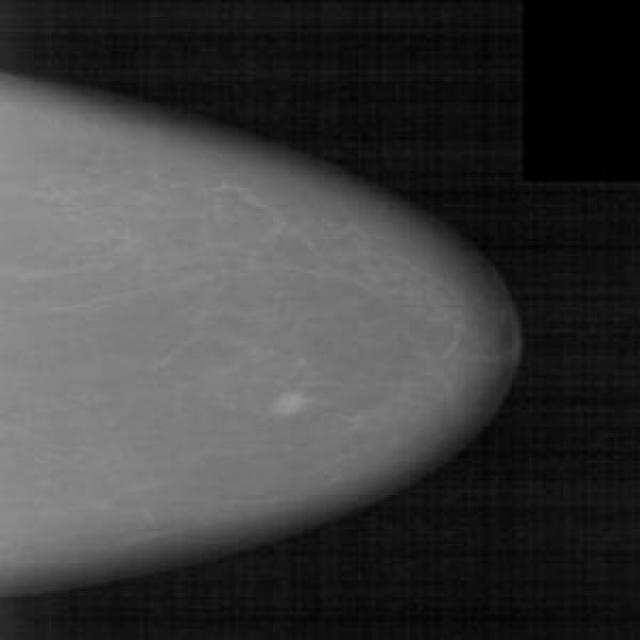tumor: (256, 370, 324, 440)
